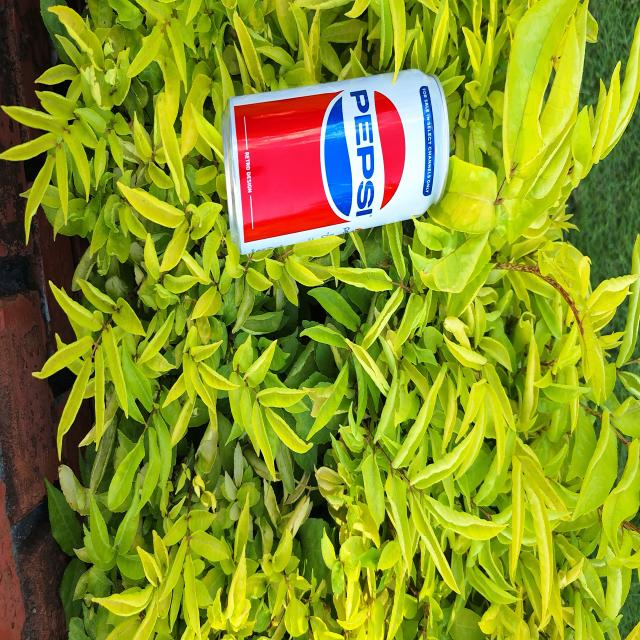Pepsi Retro: (222, 63, 448, 254)
